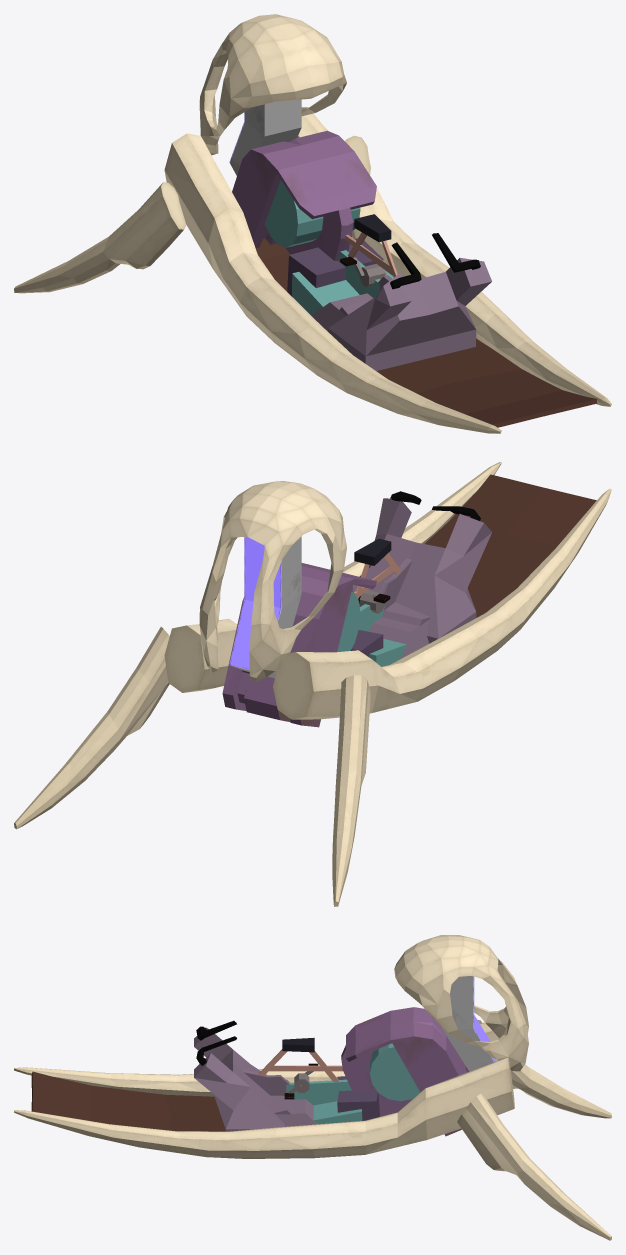
The model's file is HoverBike.fbx.
3 views of the same model, one above another, from view 1: azimuth 30°, elevation 25°; view 2: azimuth 150°, elevation 25°; view 3: azimuth 270°, elevation 25° (orthographic). The views are drawn at different scales.
Visible parts, largest first — view 1: SkaterLowPoly, Cube.002; view 2: SkaterLowPoly; view 3: SkaterLowPoly, Cube.002.
Part boxes in pixels (box(x1,y1,x2,y2)): SkaterLowPoly: box(14, 14, 611, 433); Cube.002: box(340, 256, 387, 287); SkaterLowPoly: box(14, 462, 611, 906); SkaterLowPoly: box(14, 935, 611, 1240); Cube.002: box(284, 1063, 318, 1099).
Size of the model in its own units: 259 by 526 by 232.
